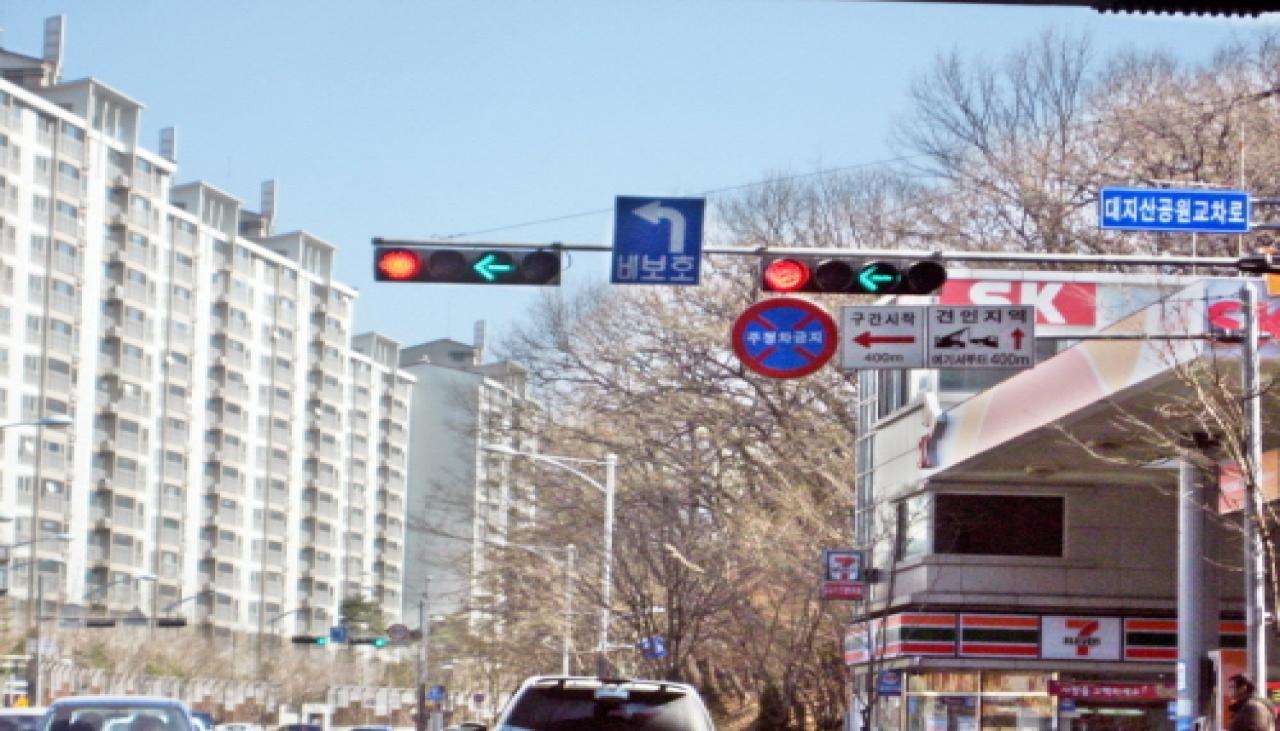Left turn: (469, 247, 516, 284), (854, 261, 900, 295)
Red Light: (760, 256, 810, 292), (377, 247, 418, 279)
